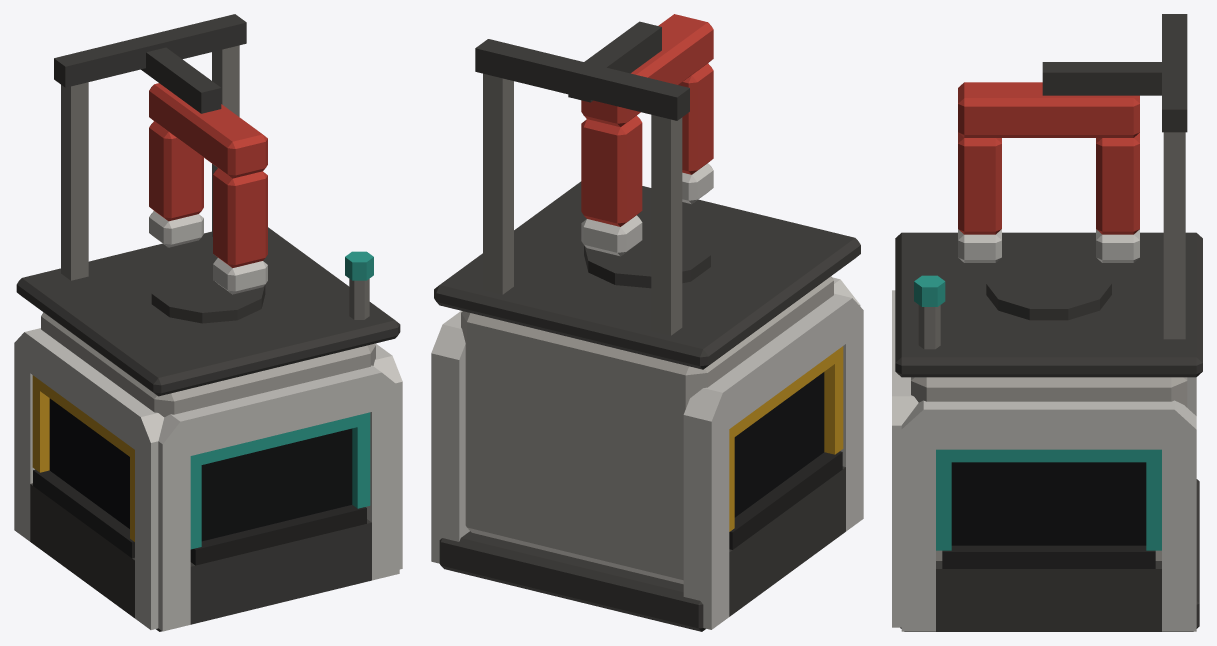
Rendered from magsep.fbx.
3 renders of one model, left to right at view 1: azimuth 30°, elevation 25°; view 2: azimuth 150°, elevation 25°; view 3: azimuth 270°, elevation 25°, orthographic. The views are drawn at different scales.
Parts seen in each view (by area): view 1: magsep; view 2: magsep; view 3: magsep.
Part boxes in pixels (x1,y1,x2,y2): magsep: (14,14,402,631); magsep: (431,14,863,631); magsep: (892,14,1202,631).
Size of the model in its own units: 3 by 5.37 by 2.97.
